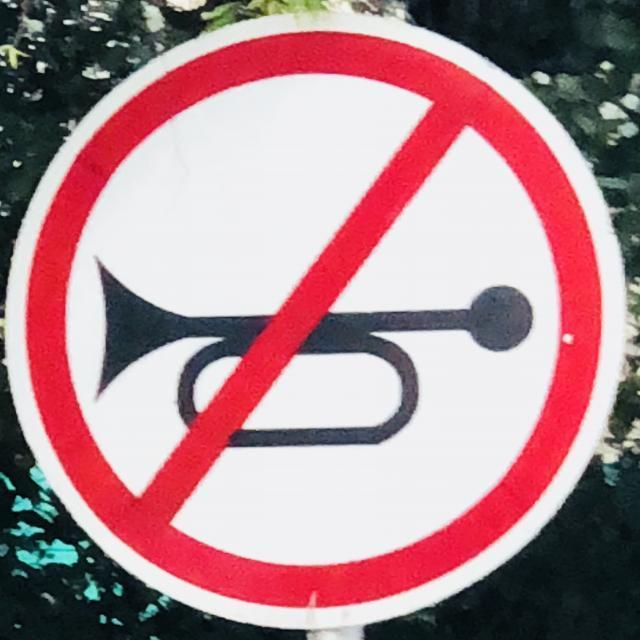horn prohibited: (32, 27, 604, 611)
